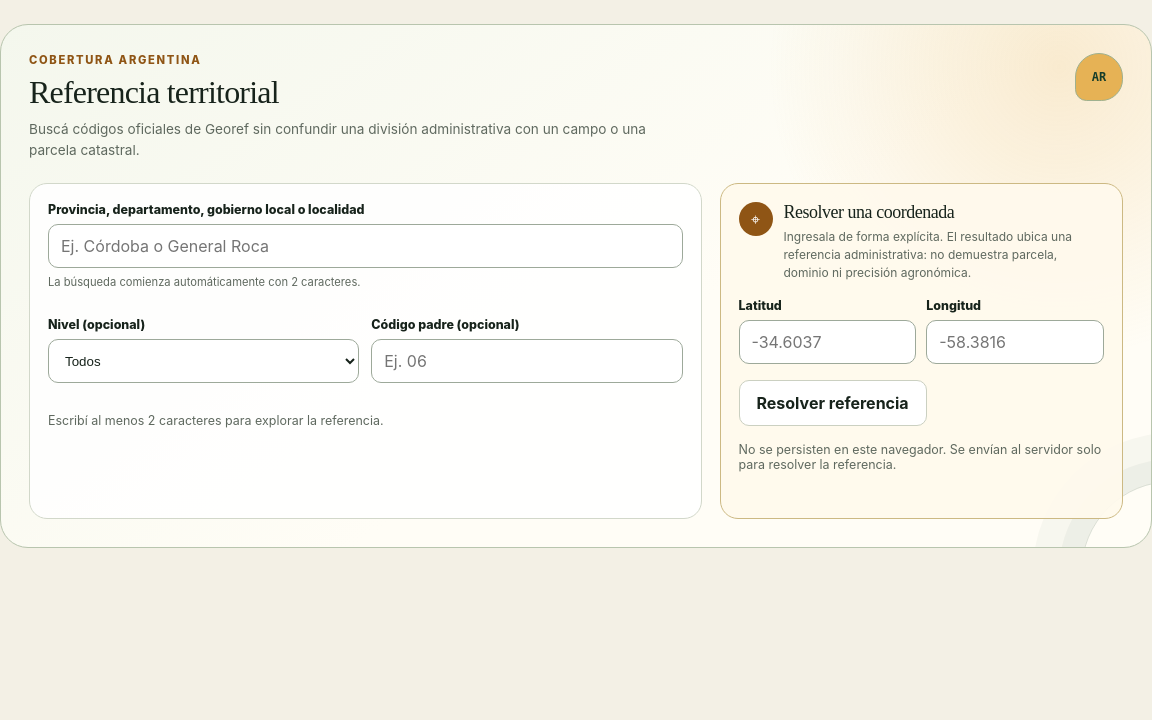
it: TerritoryExplorer search › ignores an older response even if its transport does not honor abort
Step 1. Type "cor" into the dropdown labelled "Provincia, departamento, gobierno local o localidad" → (365, 246), box x1=48 y1=224 x2=682 y2=268
Wait 250 ms
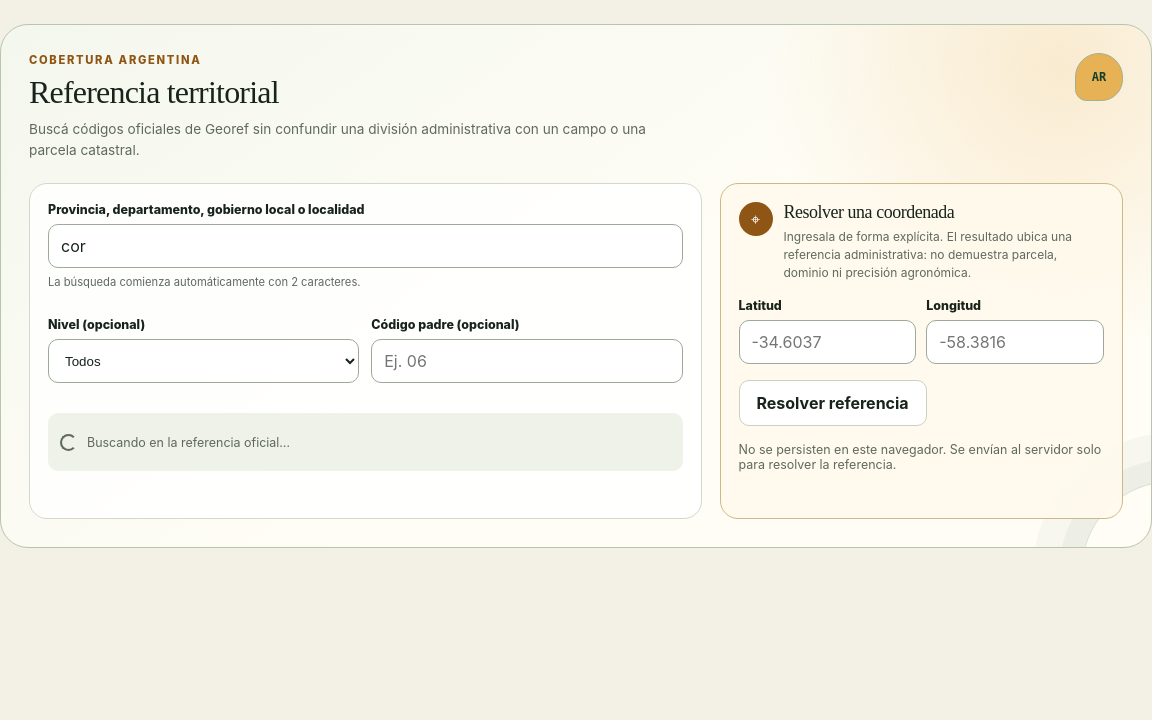
Step 2. Replace the text in the dropdown labelled "Provincia, departamento, gobierno local o localidad" with "cord" → (365, 246), box x1=48 y1=224 x2=682 y2=268
Wait 250 ms
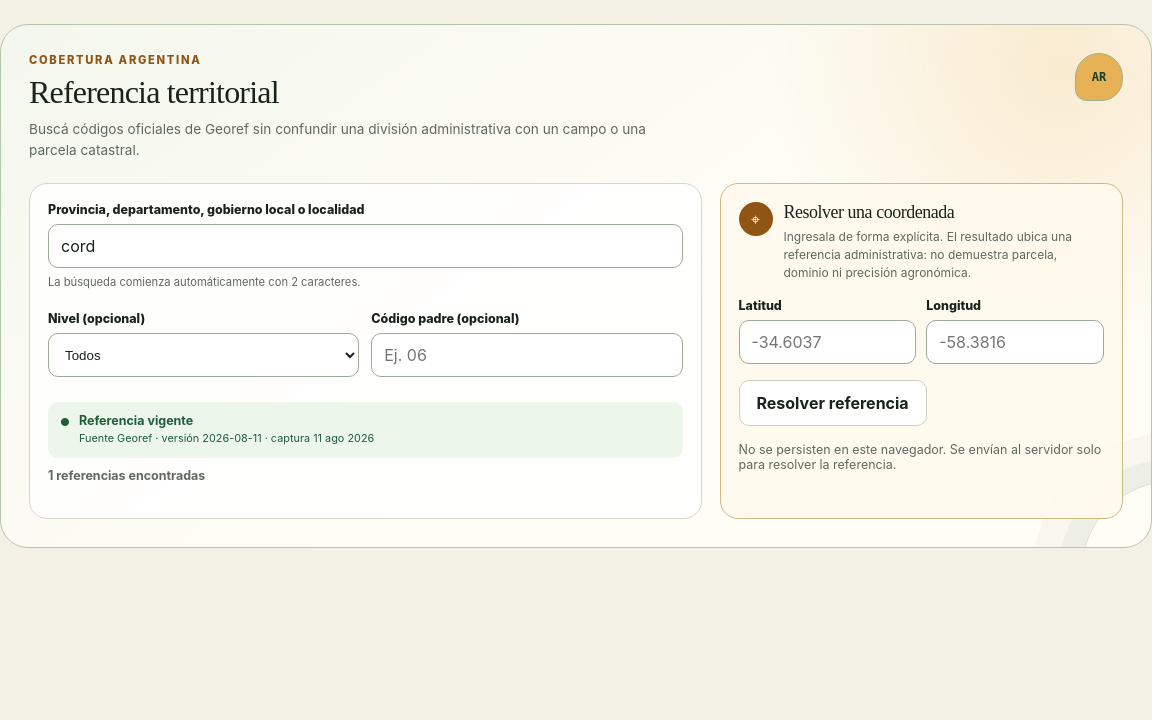
Step 3. Focus the dropdown labelled "Provincia, departamento, gobierno local o localidad" → (365, 246), box x1=48 y1=224 x2=682 y2=268
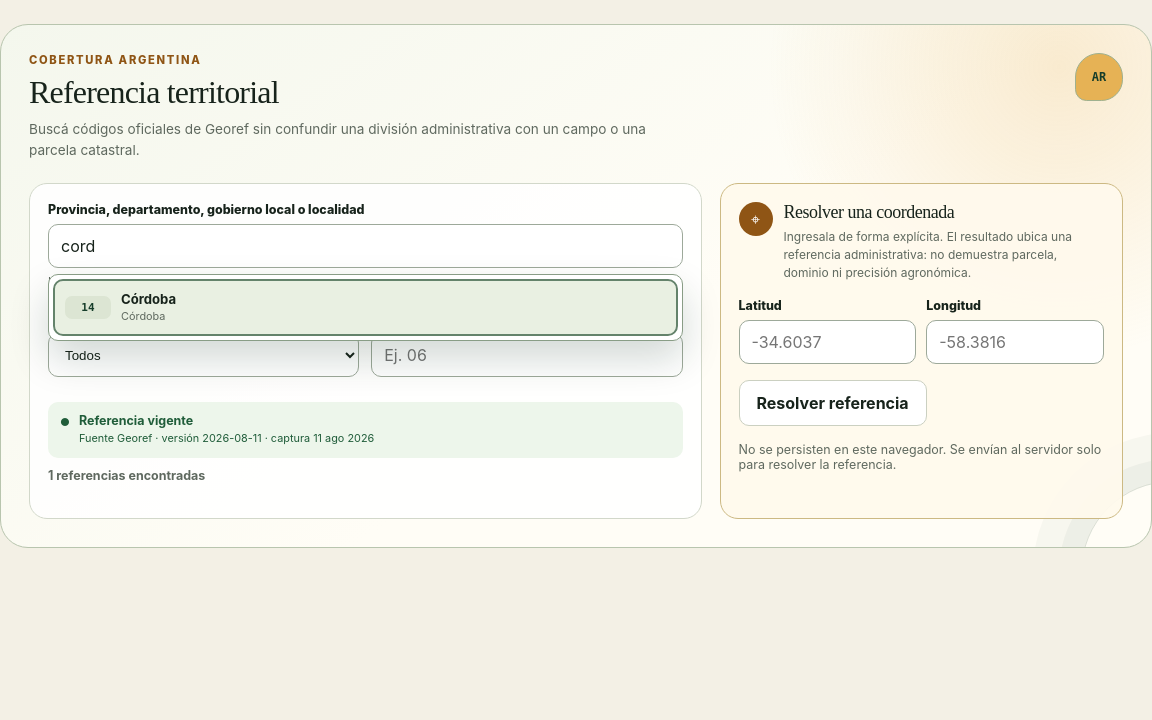
Expected: the option "14 Córdoba Córdoba" is shown, x1=55 y1=281 x2=676 y2=334
